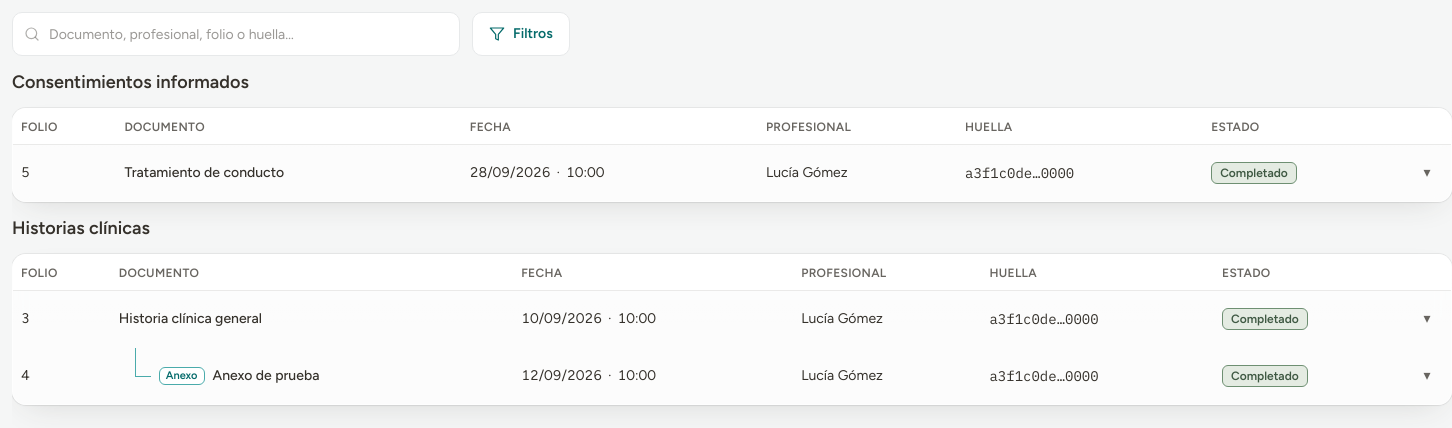
Test: RegistroDeDocumentos en dos tablas (5.6b) › si nada coincide, un solo aviso, sin las dos tablas
Type "no-existe" into the search field at point(236, 34), box [12,12,460,56]
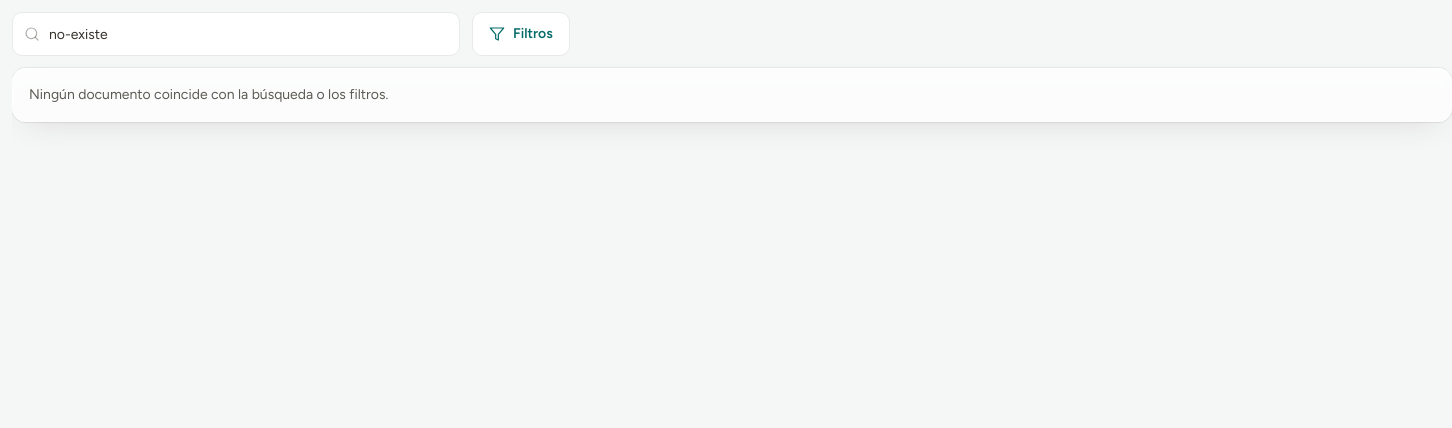
Check: the text "Ningún documento coincide con la búsqueda o los filtros." is shown once, box [12,68,1451,122]
Check: the heading "Consentimientos informados" is gone
